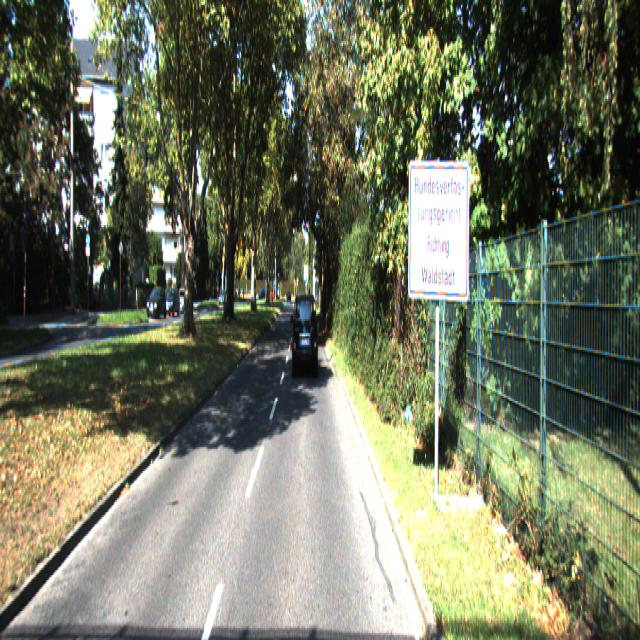Car: (291, 293, 318, 378)
